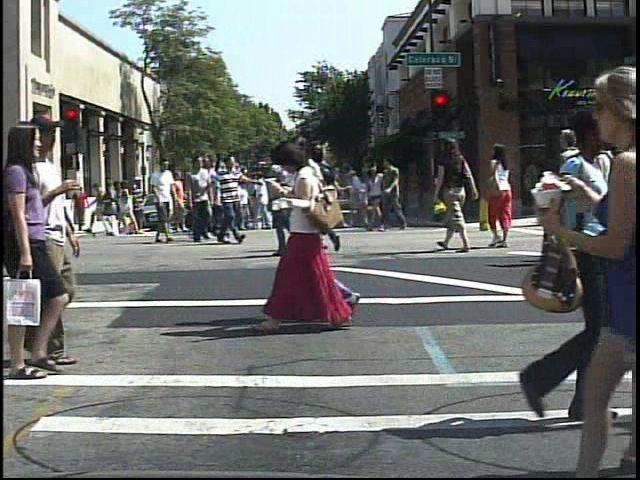person: (1, 115, 74, 384), (31, 107, 104, 369), (263, 136, 349, 337), (296, 130, 372, 329), (554, 118, 595, 270), (587, 132, 628, 277), (264, 135, 310, 264), (430, 134, 477, 248), (308, 150, 354, 261), (294, 141, 336, 251), (484, 142, 520, 256), (209, 152, 248, 246), (184, 155, 220, 248), (581, 146, 613, 245), (146, 155, 178, 246), (126, 172, 148, 241), (72, 182, 93, 232)
